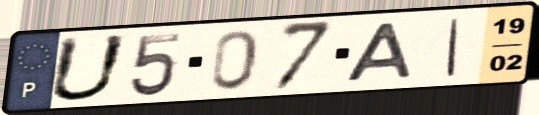0: (208, 28, 263, 92)
5: (126, 31, 185, 97)
7: (269, 18, 337, 94)
A: (340, 20, 417, 84)
I: (443, 17, 464, 78)
U: (44, 32, 133, 104)
